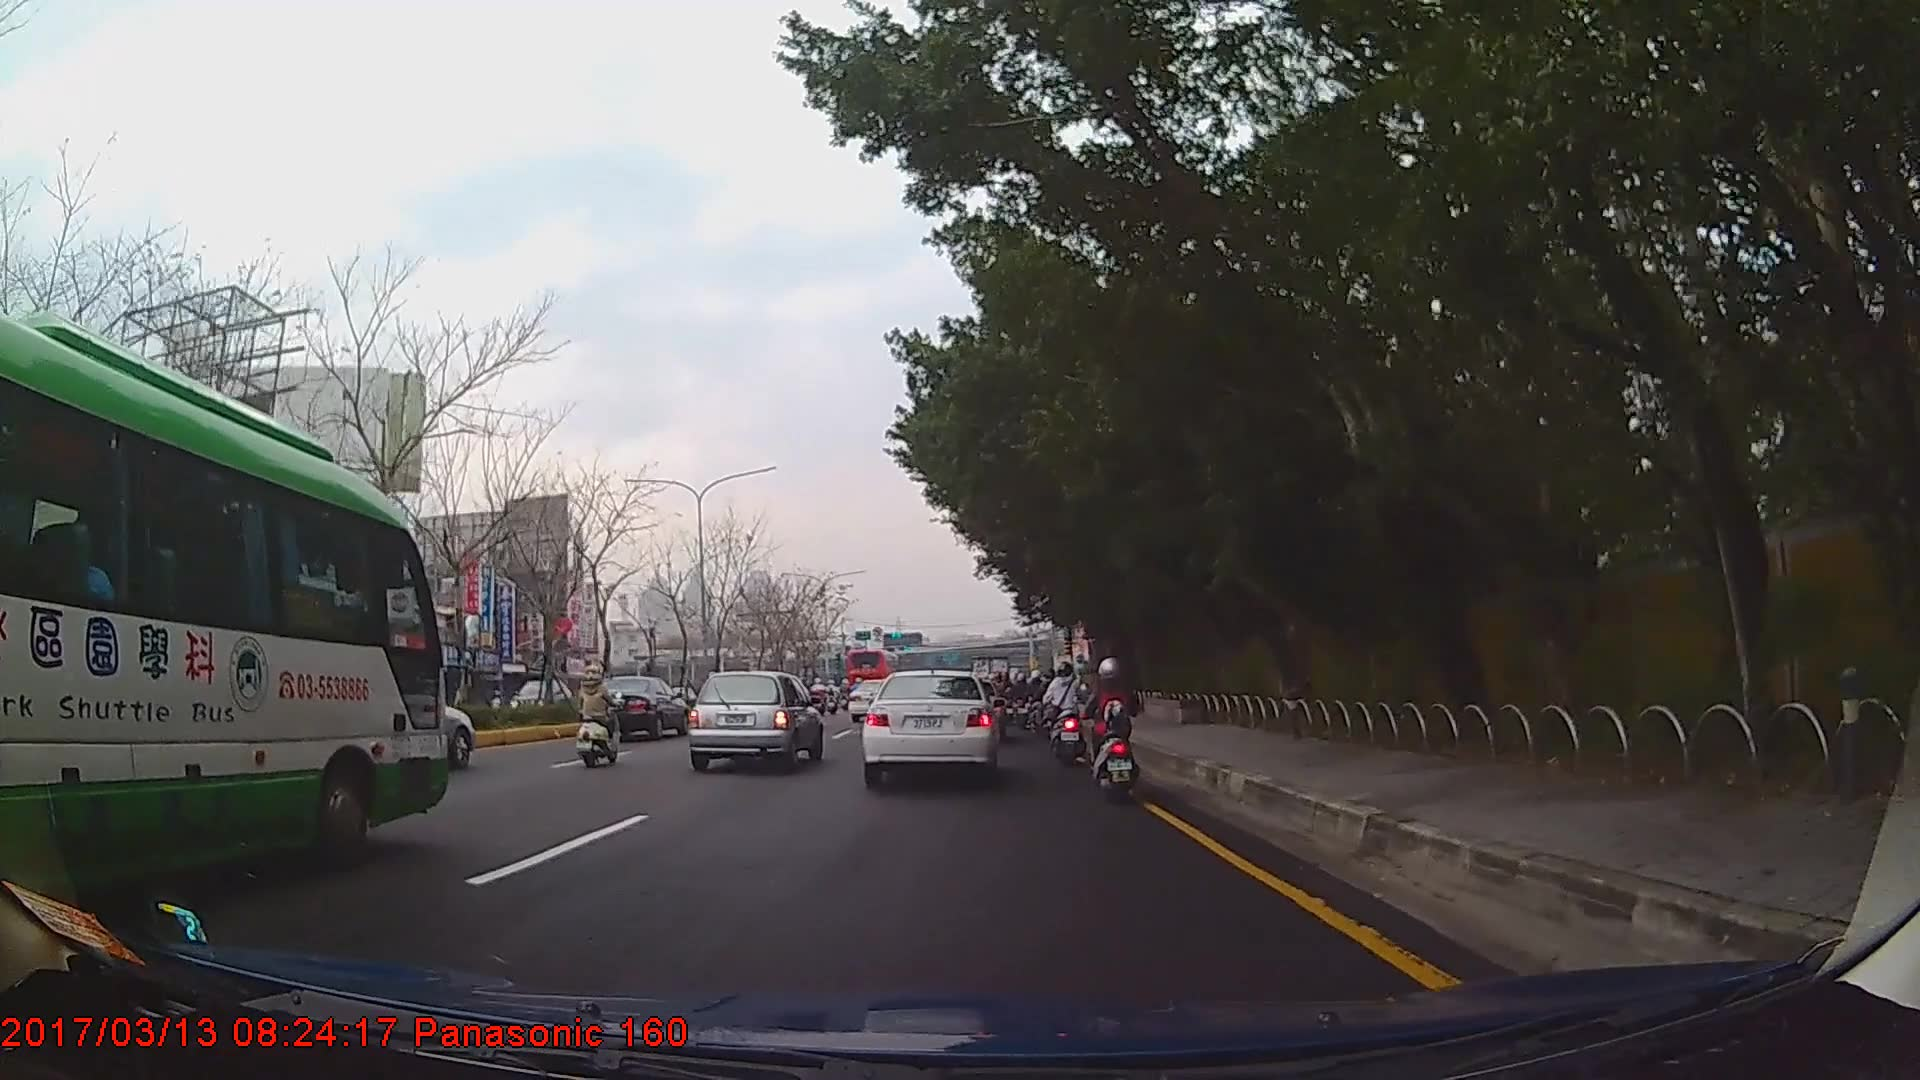rider: (1086, 658, 1143, 806), (1047, 663, 1091, 769), (578, 664, 621, 769), (1040, 670, 1062, 746)
vehicle: (0, 290, 453, 906), (859, 669, 1000, 784), (685, 669, 824, 772), (578, 670, 691, 739), (503, 675, 575, 721), (843, 647, 897, 702)
